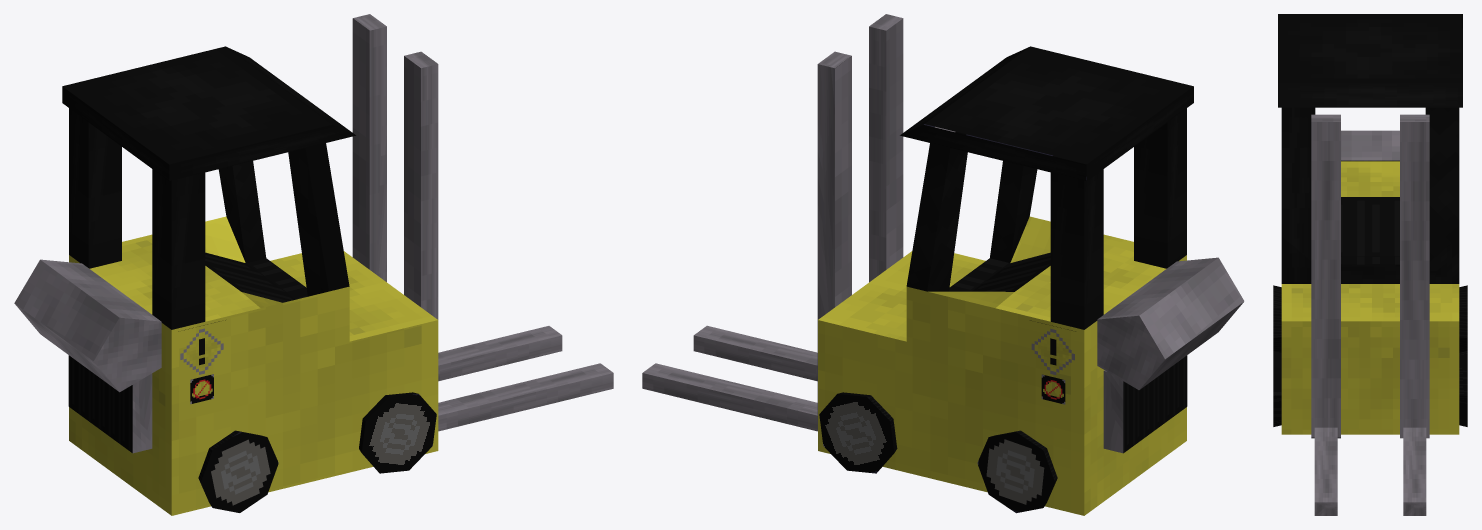
Rendered from forklift.glb.
3 views of the same model, side by side, from view 1: azimuth 30°, elevation 25°; view 2: azimuth 150°, elevation 25°; view 3: azimuth 270°, elevation 25° (orthographic). The views are drawn at different scales.
Visible parts, largest first — view 1: Body, Fork, WheelFront, WheelBack, !Sign; view 2: Body, Fork, WheelFront, WheelBack, !Sign.001; view 3: Body, Fork, WheelFront, WheelBack.
Part boxes in pixels (x1,y1,x2,y2): Body: (14, 14, 438, 515); Fork: (438, 326, 613, 431); WheelFront: (359, 392, 436, 473); WheelBack: (198, 430, 278, 512); !Sign: (178, 320, 225, 374); Body: (817, 14, 1244, 515); Fork: (642, 325, 817, 431); WheelFront: (819, 392, 897, 473); WheelBack: (977, 430, 1057, 513); !Sign.001: (1030, 320, 1075, 374); Body: (1278, 14, 1462, 438); Fork: (1314, 427, 1426, 515); WheelFront: (1273, 351, 1467, 426); WheelBack: (1273, 285, 1467, 352).
Size of the model in its own units: 5.95 by 4.08 by 2.19.
Materials: 5 (5 with a texture image).
